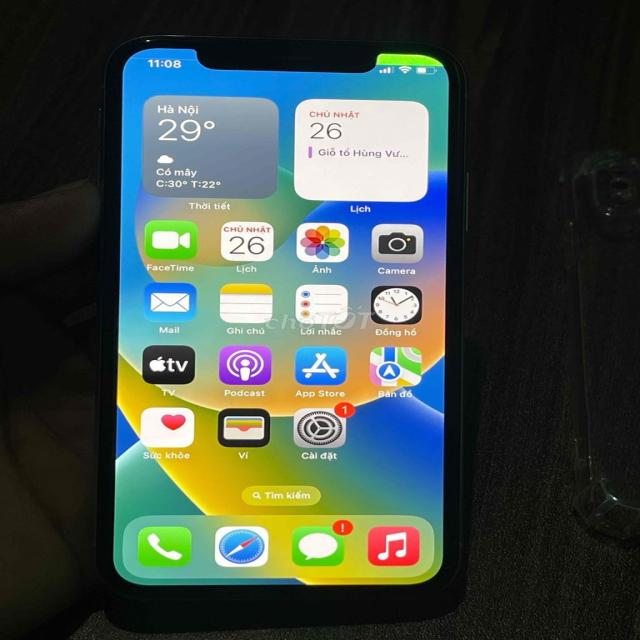gen_x_xs: (96, 21, 483, 613)
